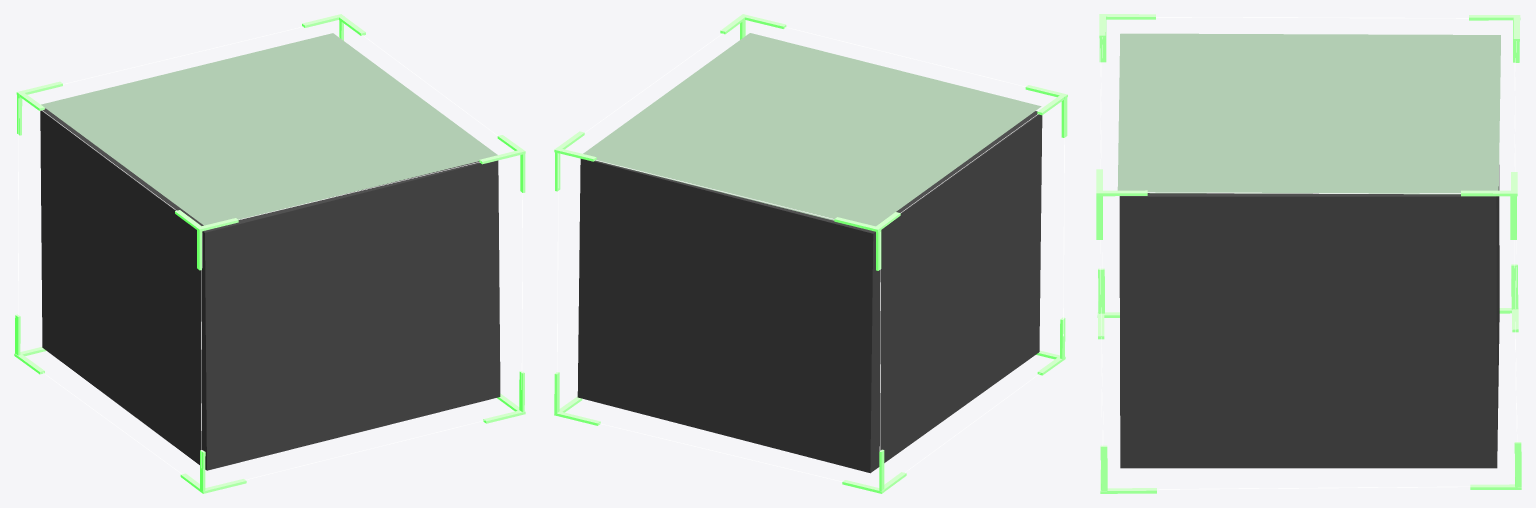
Rendered from newFrameBox-1x1.glb.
3 renders of one model, left to right at view 1: azimuth 30°, elevation 25°; view 2: azimuth 150°, elevation 25°; view 3: azimuth 270°, elevation 25°, orthographic. The views are drawn at different scales.
Visible parts, largest first — view 1: Cube.016, Plane; view 2: Cube.016, Plane; view 3: Cube.016, Plane.
Boxes of the visible parts, box(x1,y1,x2,y2) form: Cube.016: box(40, 108, 500, 470); Plane: box(41, 33, 497, 225); Cube.016: box(577, 111, 1042, 473); Plane: box(583, 33, 1041, 226); Cube.016: box(1119, 165, 1499, 468); Plane: box(1117, 33, 1500, 194).
Bounding box in the file's own units: 2.24 × 1.74 × 2.23.
